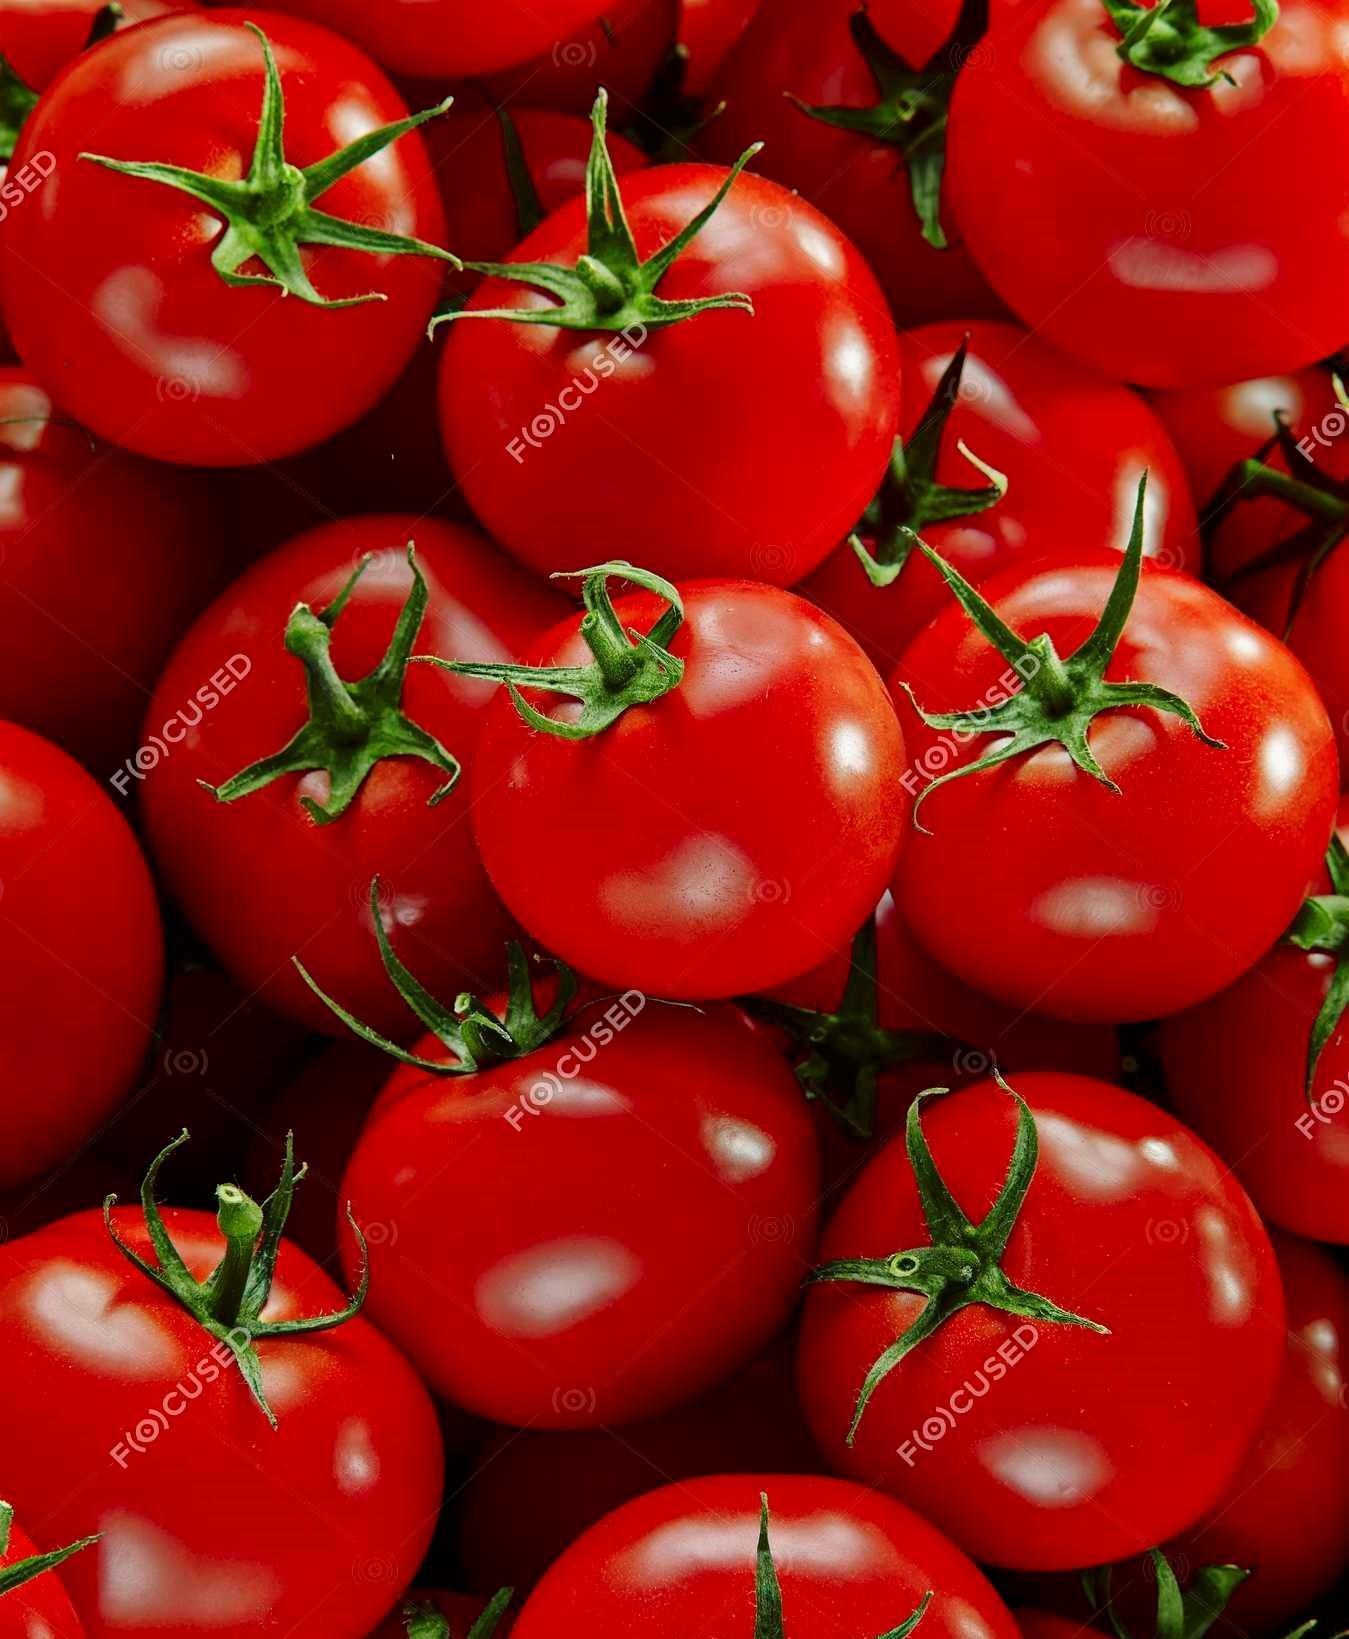healthy-tomato: (131, 519, 633, 1081), (794, 1071, 1293, 1579), (821, 523, 1311, 1022), (342, 983, 829, 1438), (1, 1157, 446, 1639), (436, 165, 912, 592), (1, 20, 444, 475), (459, 579, 911, 990), (945, 1, 1349, 406), (818, 320, 1205, 712), (1, 720, 176, 1240), (506, 1474, 1026, 1639), (1158, 354, 1349, 730), (1171, 931, 1349, 1307)
